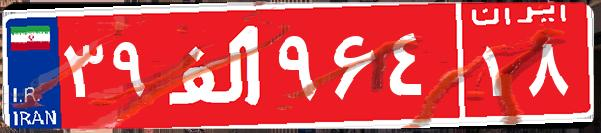1: (475, 38, 525, 113)
3: (57, 26, 110, 107)
4: (385, 28, 445, 110)
6: (330, 28, 385, 110)
8: (525, 38, 570, 115)
9: (273, 28, 330, 110), (110, 28, 158, 105)
الف: (158, 15, 273, 115)
